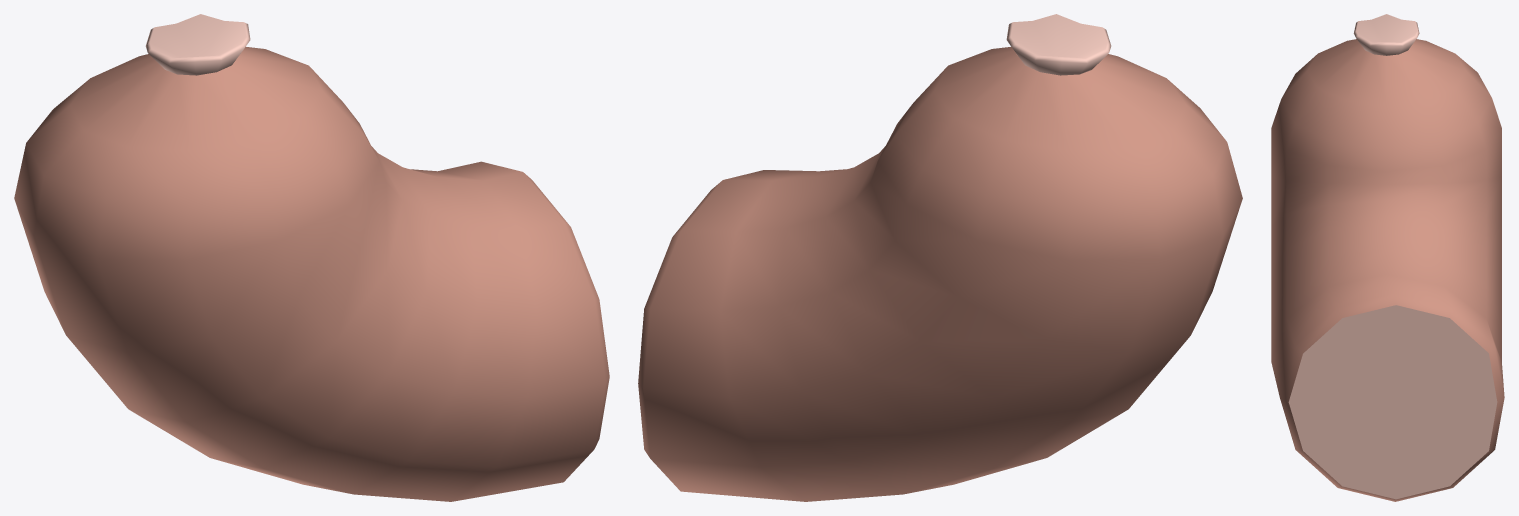
File: Sausage_mini_half.fbx
3 views of the same model, side by side, from view 1: azimuth 30°, elevation 25°; view 2: azimuth 150°, elevation 25°; view 3: azimuth 270°, elevation 25° (orthographic). The views are drawn at different scales.
Visible parts, largest first — view 1: Sausage_mini_half; view 2: Sausage_mini_half; view 3: Sausage_mini_half.
Part boxes in pixels (x1=…): Sausage_mini_half: x1=14, y1=14, x2=609, y2=501; Sausage_mini_half: x1=638, y1=14, x2=1242, y2=501; Sausage_mini_half: x1=1271, y1=14, x2=1504, y2=501.
Size of the model in its own units: 61.69 by 35.56 by 61.13.
